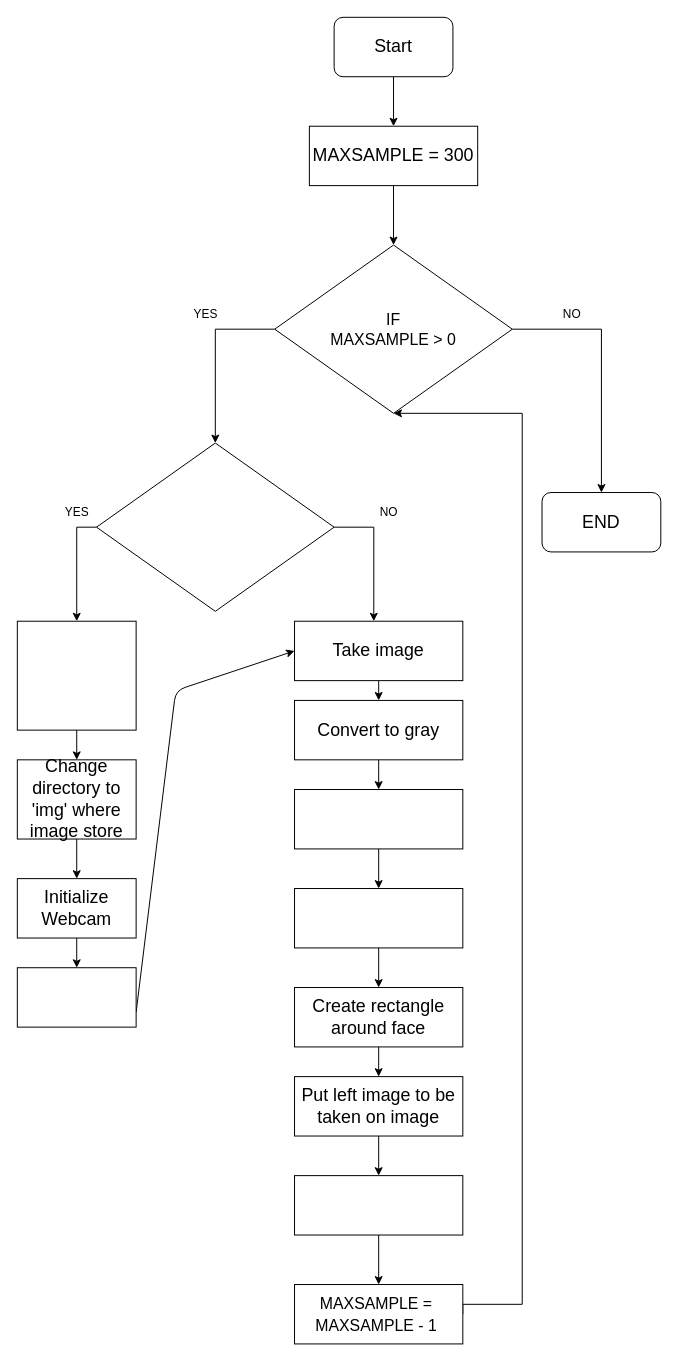
Image size: 678x1361. Some labels were removed from this diagram. Each missing label, with the centre of its shape:
Crop and Save face: pixel 378 918
Decrement MAXSAMPLE BY 1: pixel 76 997
Detect face: pixel 378 819
Display on screen: pixel 378 1205
Enter name AND Create a folder for person image: pixel 76 675
IF MAXSAMPLE = 300: pixel 215 526
